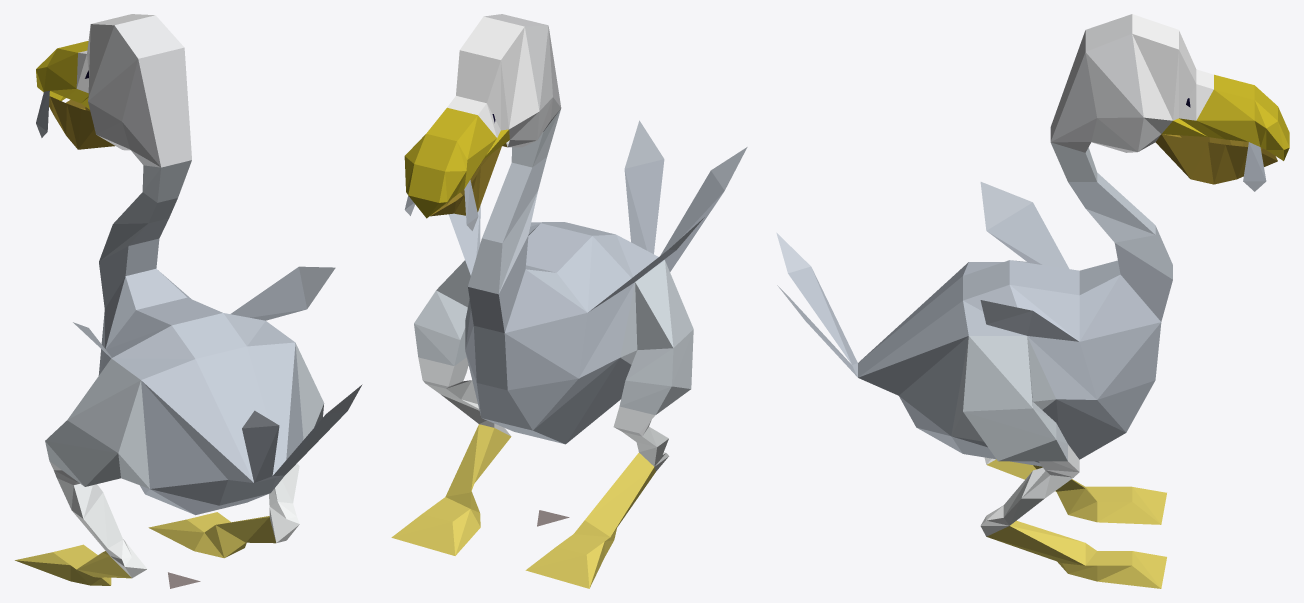
Rendered from npc_world_chompy_bird_2_0.obj.
The picture shows the model from 3 angles, left to right: view 1: azimuth 30°, elevation 25°; view 2: azimuth 150°, elevation 25°; view 3: azimuth 270°, elevation 25°; orthographic projection. The views are drawn at different scales.
Bounding box in the file's own units: 0.3906 × 0.7656 × 0.6875.
